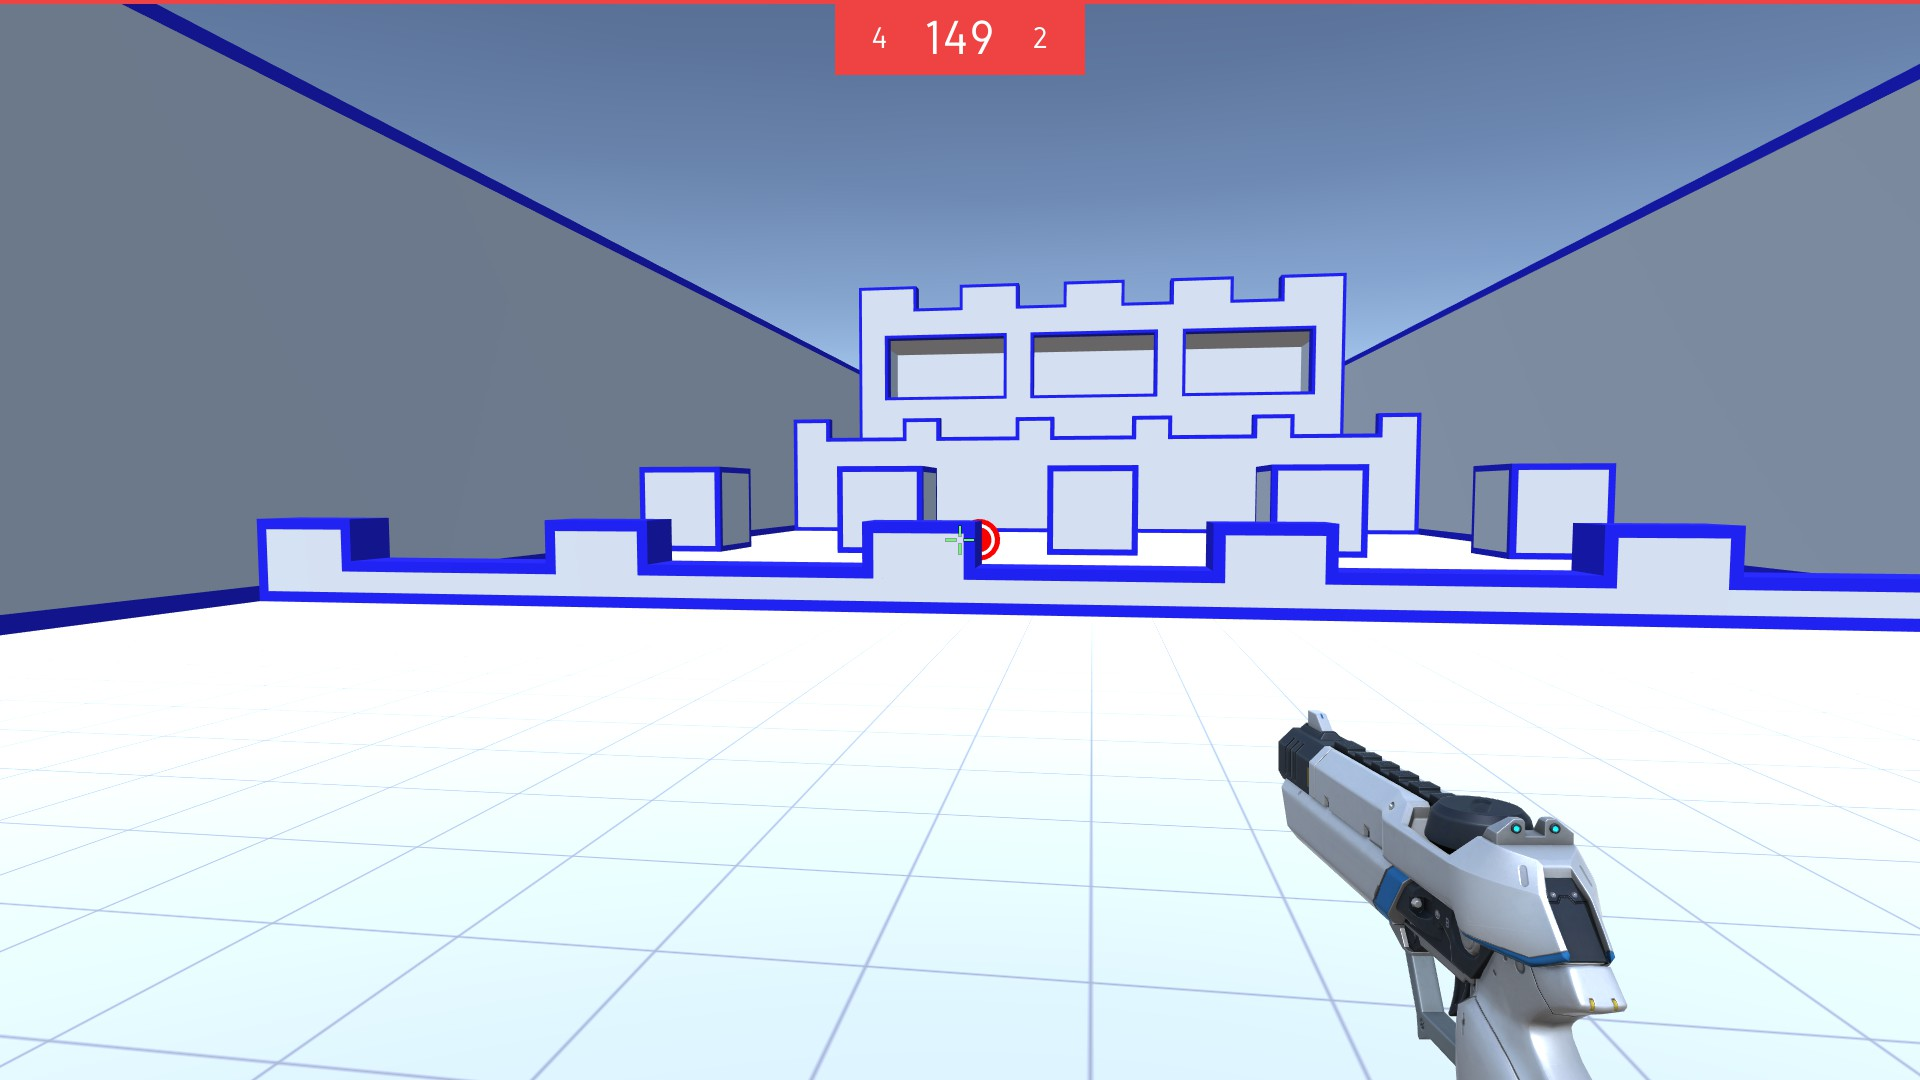target: (971, 518, 1000, 560)
